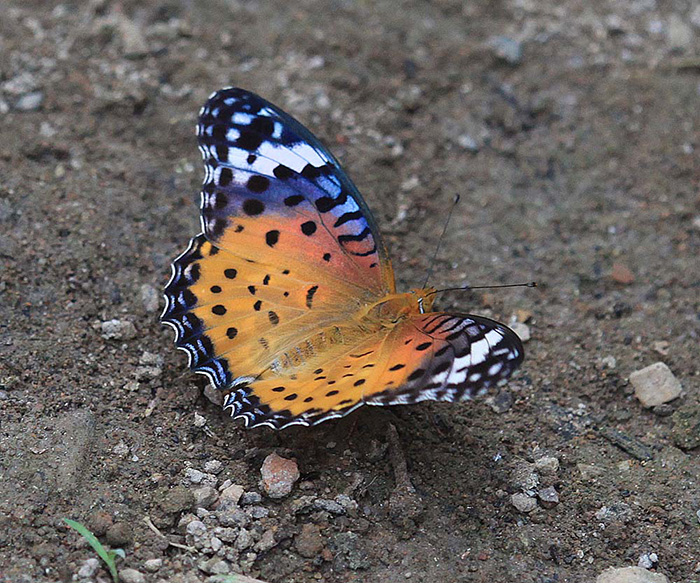Argyreus hyperbius: (156, 81, 548, 431)
butterfly: (158, 83, 550, 433)
